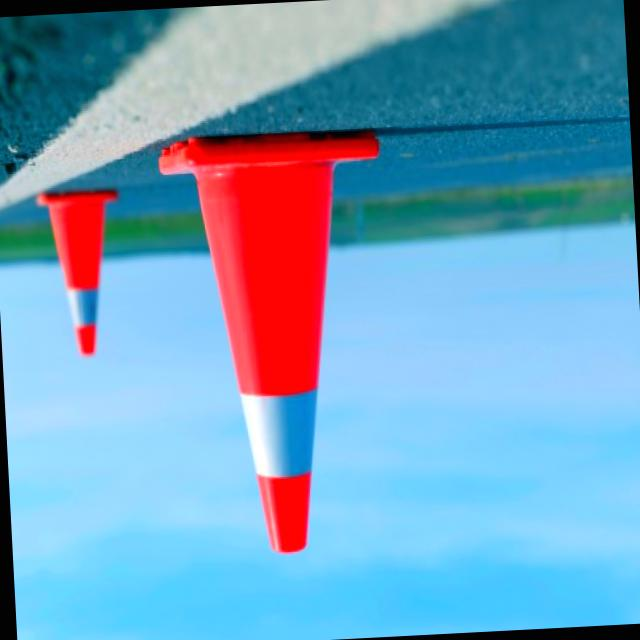cone: (163, 97, 433, 624)
